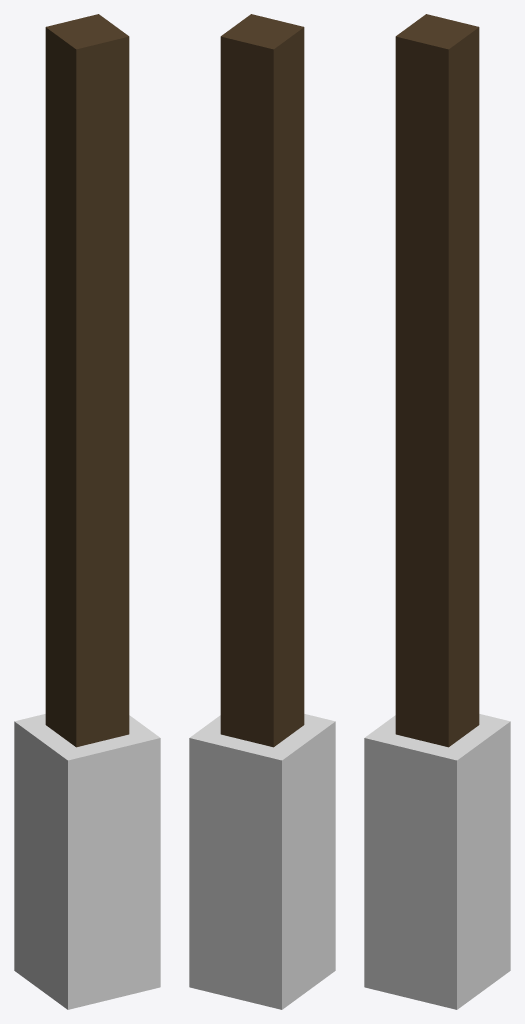
Rendered from pole.glb.
The picture shows the model from 3 angles, left to right: view 1: azimuth 30°, elevation 25°; view 2: azimuth 150°, elevation 25°; view 3: azimuth 330°, elevation 25°; orthographic projection.
Parts seen in each view (by area): view 1: pole; view 2: pole; view 3: pole.
Part boxes in pixels (box(x1,y1,x2,y2)): pole: box(14, 14, 160, 1009); pole: box(189, 14, 335, 1009); pole: box(364, 14, 510, 1009).
Bounding box in the file's own units: 0.2459 × 2.4 × 0.2459.
